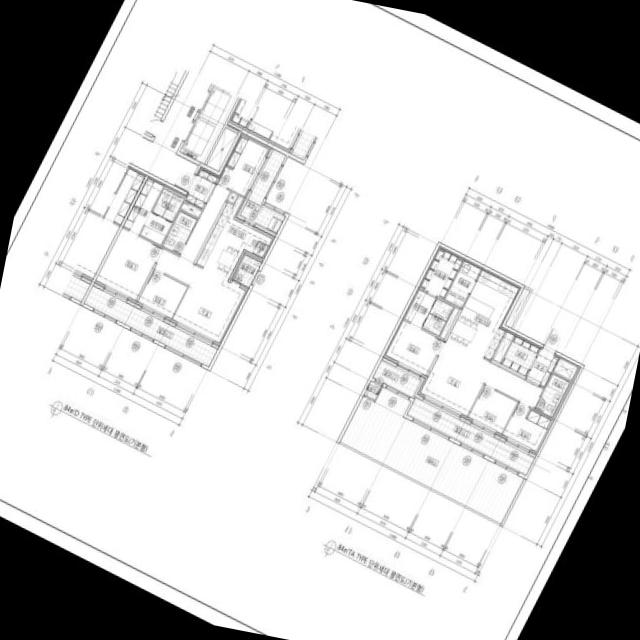background: (0, 0, 640, 640)
space_balconi: (83, 285, 217, 366), (406, 397, 534, 475), (240, 149, 285, 233), (372, 360, 421, 398)
space_bedroom: (94, 228, 161, 302), (383, 319, 443, 378), (217, 132, 271, 197), (501, 403, 553, 454), (466, 385, 517, 436), (136, 270, 187, 320)
space_dressroom: (122, 176, 172, 245), (418, 246, 463, 299), (402, 288, 436, 327)
space_elevator: (179, 117, 221, 164), (197, 84, 238, 129)
space_elevator_hall: (129, 71, 211, 191)
space_front: (185, 167, 219, 209), (525, 347, 559, 387)
space_kitchen: (446, 268, 520, 360), (196, 196, 256, 282)
space_living_room: (154, 184, 248, 346), (417, 340, 543, 418)
space_multipurpose_space: (444, 259, 482, 308), (244, 228, 274, 261)
space_other: (501, 334, 540, 376), (206, 127, 238, 171), (492, 330, 514, 363), (439, 307, 459, 339), (553, 357, 578, 380), (180, 202, 201, 217), (227, 192, 237, 203)
space_outdoor_room: (232, 254, 261, 287), (363, 381, 381, 400)
space_staircase: (144, 66, 185, 137)
space_toilet: (161, 210, 197, 255), (534, 373, 570, 417), (421, 298, 453, 336), (162, 193, 184, 222), (151, 188, 173, 216)
